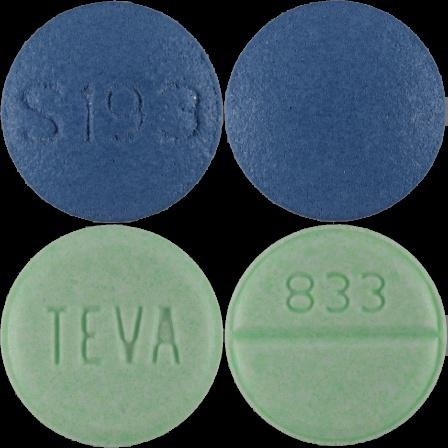50436-0193: (0, 0, 224, 224)
